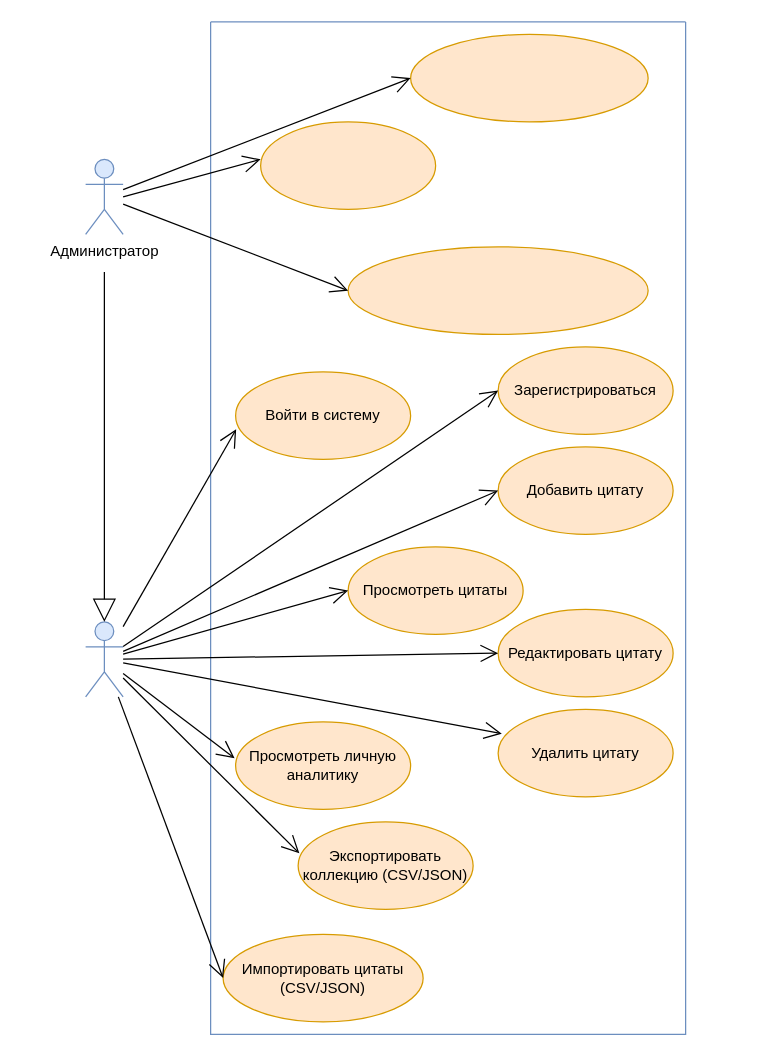
The diagram is 775 pixels wide and 1056 high, and some of its shapes have lost their labels. The shapes that lost their labels are listed below. From the top down, each one's centre as x and y in pixels, then its label:
point 528,77: Редактировать любые фильмы
point 347,165: Управлять жанрами
point 497,290: Объединять дублирующиеся записи
point 103,659: Обычный пользователь
